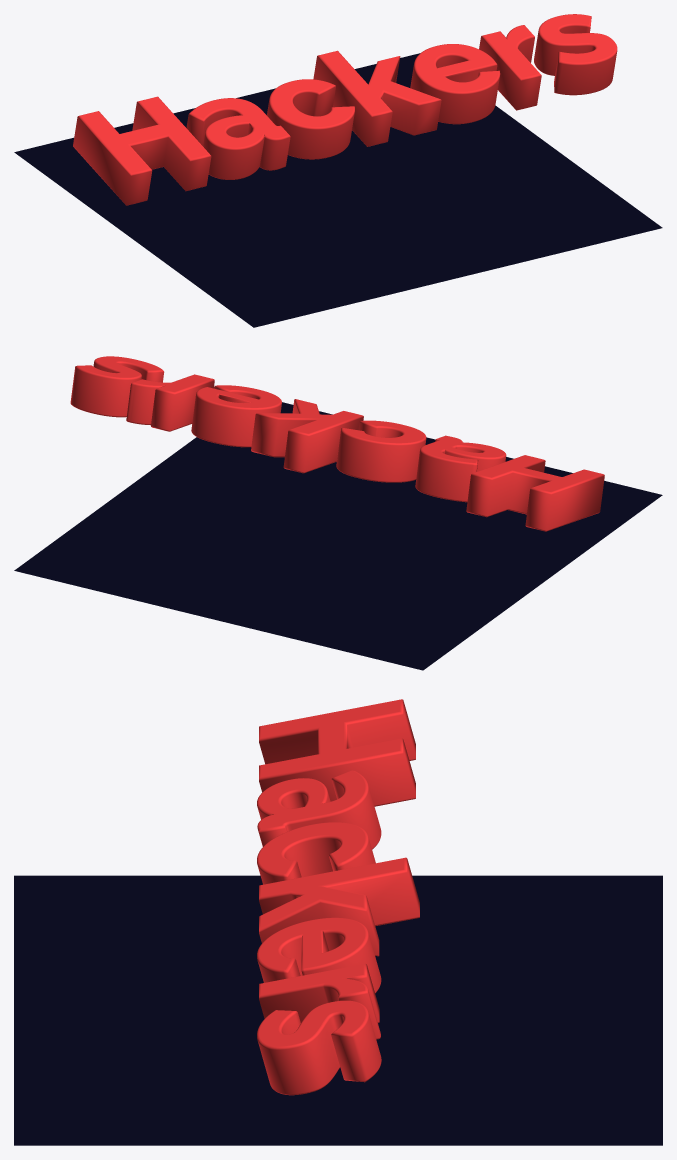
The model's file is hackers11.obj.
3 views of the same model, one above another, from view 1: azimuth 30°, elevation 25°; view 2: azimuth 150°, elevation 25°; view 3: azimuth 270°, elevation 25° (orthographic). The views are drawn at different scales.
Visible parts, largest first — view 1: Plane, Hackers; view 2: Plane, Hackers; view 3: Plane, Hackers.
Part boxes in pixels (<box>): Plane: <box>14,53,662,327</box>; Hackers: <box>73,14,617,205</box>; Plane: <box>14,402,662,670</box>; Hackers: <box>70,356,604,531</box>; Plane: <box>14,875,662,1145</box>; Hackers: <box>257,699,419,1095</box>.
Size of the model in its own units: 2.89 by 0.6434 by 2.42.
